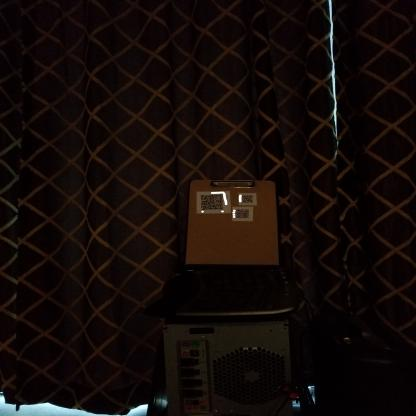qr: (199, 191, 226, 211), (234, 207, 250, 218), (241, 193, 256, 203)
